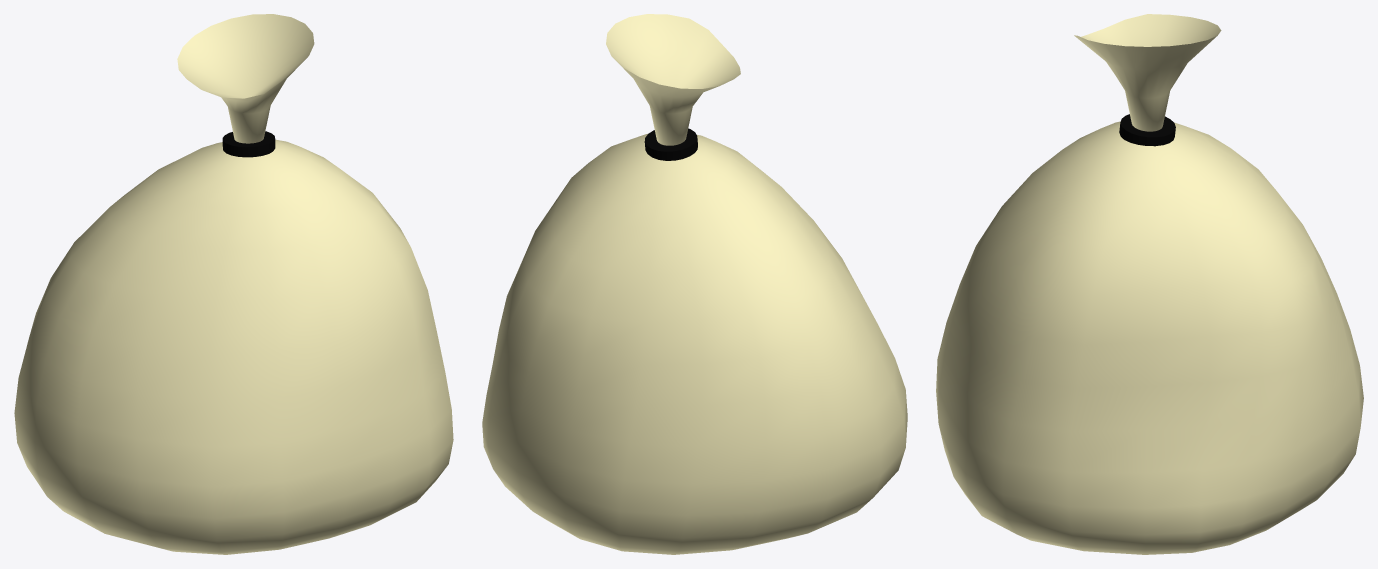
The model's file is moneybag.fbx.
The picture shows the model from 3 angles, left to right: view 1: azimuth 30°, elevation 25°; view 2: azimuth 150°, elevation 25°; view 3: azimuth 270°, elevation 25°; orthographic projection. The views are drawn at different scales.
Visible parts, largest first — view 1: pSphere1, pCone1, pCylinder1; view 2: pSphere1, pCone1, pCylinder1; view 3: pSphere1, pCone1, pCylinder1.
Boxes of the visible parts, <box> form: pSphere1: <box>14,139,453,554</box>; pCone1: <box>177,14,314,143</box>; pCylinder1: <box>222,131,275,157</box>; pSphere1: <box>482,134,907,554</box>; pCone1: <box>606,14,740,145</box>; pCylinder1: <box>644,128,697,160</box>; pSphere1: <box>936,121,1363,554</box>; pCone1: <box>1074,14,1221,131</box>; pCylinder1: <box>1119,114,1175,146</box>.
Size of the model in its own units: 1.42 by 1.67 by 1.33.
